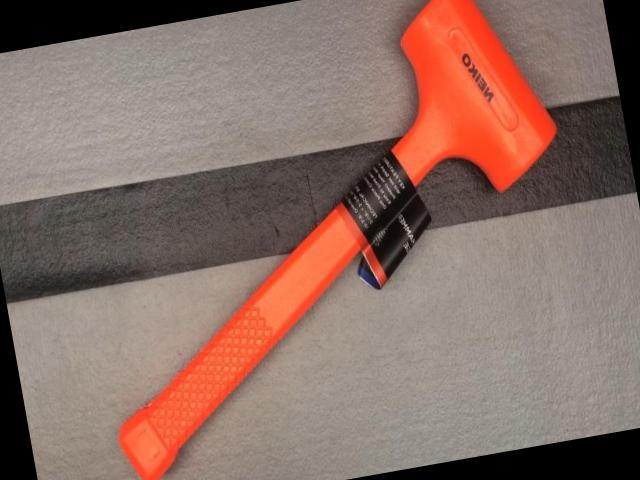hammer: (50, 0, 607, 480)
